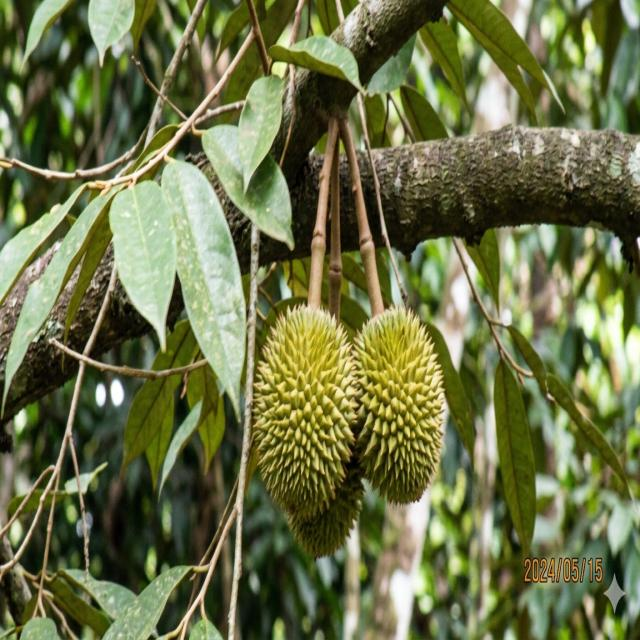immature: (252, 298, 362, 533), (349, 302, 447, 505)
